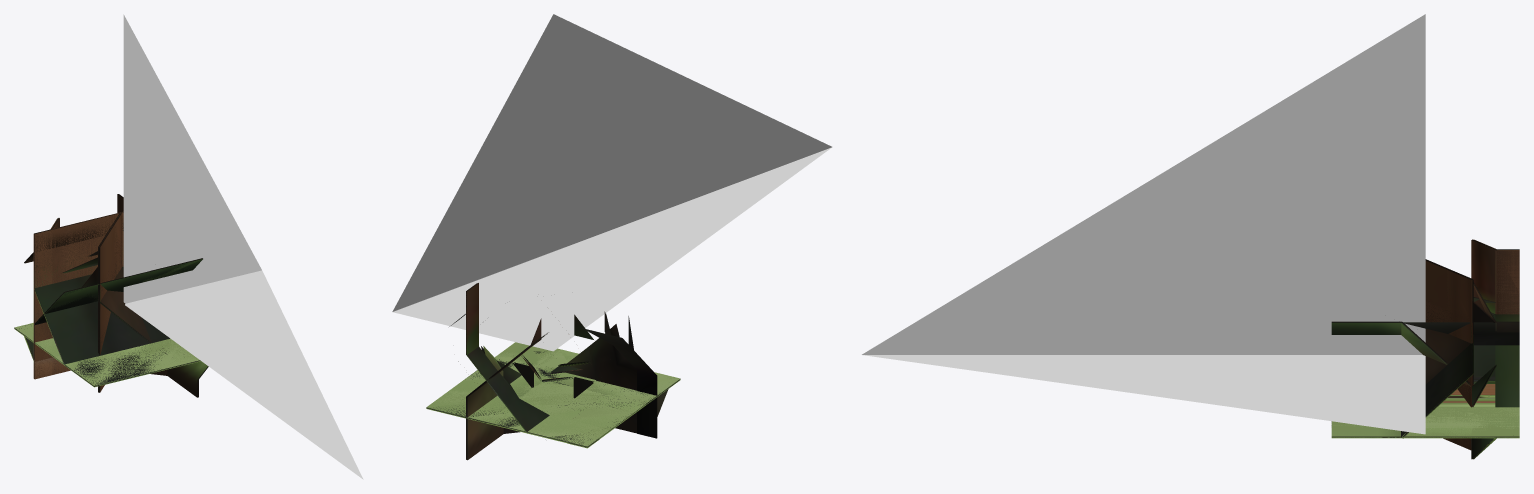
Rendered from tiles.glb.
3 views of the same model, side by side, from view 1: azimuth 30°, elevation 25°; view 2: azimuth 150°, elevation 25°; view 3: azimuth 270°, elevation 25° (orthographic). The views are drawn at different scales.
Parts seen in each view (by area): view 1: mb_frame, edge_inner_b4h2_30, slab_b2h2_outdoor_27, slab_b2h2_outdoor_30, edge_b1h1_outdoor_14, edge_b0h2_12, edge_inner_b2h4_6, edge_inner_b3h3_2, slab_b4h0_17, corner_inner_b4h3_4, slab_b4h0_7, slab_b4h0_5 (+6 smaller); view 2: mb_frame, spike_inner_b3h3, slab_b4h0_9, slab_b4h0_7, twist_left_b1h3, slab_b4h0_10, twist_left_b2h2, twist_left_b3h1, slab_b4h0_6, slab_b4h0_5, ell_b2h1_b_outdoor, slab_b4h0_outdoor_29 (+4 smaller); view 3: mb_frame, edge_inner_b3h3_2, ell_b2h1_a_3, edge_inner_b3h3_4, edge_b1h1_outdoor_13, ell_inner_b4h1_15, edge_inner_b4h2_30, corner_inner_b4h3_4, tetra_b3h1_outdoor, ell_inner_b1h4_4, edge_b1h1_outdoor_15, slab_b4h0_outdoor_25 (+5 smaller).
Part boxes in pixels (bbox=[...]): mb_frame: bbox=[123, 14, 363, 479]; edge_inner_b4h2_30: bbox=[35, 266, 169, 364]; slab_b2h2_outdoor_27: bbox=[34, 213, 123, 376]; slab_b2h2_outdoor_30: bbox=[35, 214, 123, 373]; edge_b1h1_outdoor_14: bbox=[34, 230, 52, 378]; edge_b0h2_12: bbox=[26, 213, 123, 262]; edge_inner_b2h4_6: bbox=[39, 259, 202, 320]; edge_inner_b3h3_2: bbox=[100, 214, 121, 388]; slab_b4h0_17: bbox=[19, 324, 167, 382]; corner_inner_b4h3_4: bbox=[100, 216, 151, 342]; slab_b4h0_7: bbox=[33, 340, 194, 385]; slab_b4h0_5: bbox=[16, 324, 190, 371]; mb_frame: bbox=[392, 14, 832, 351]; spike_inner_b3h3: bbox=[466, 311, 657, 459]; slab_b4h0_9: bbox=[469, 355, 661, 446]; slab_b4h0_7: bbox=[434, 352, 654, 439]; twist_left_b1h3: bbox=[583, 312, 656, 438]; slab_b4h0_10: bbox=[433, 349, 679, 445]; twist_left_b2h2: bbox=[467, 342, 536, 459]; twist_left_b3h1: bbox=[467, 285, 555, 439]; slab_b4h0_6: bbox=[441, 372, 667, 443]; slab_b4h0_5: bbox=[432, 375, 678, 445]; ell_b2h1_b_outdoor: bbox=[467, 283, 527, 433]; slab_b4h0_outdoor_29: bbox=[470, 374, 678, 436]; mb_frame: bbox=[862, 14, 1425, 434]; edge_inner_b3h3_2: bbox=[1425, 261, 1471, 450]; ell_b2h1_a_3: bbox=[1481, 314, 1519, 448]; edge_inner_b3h3_4: bbox=[1425, 270, 1471, 449]; edge_b1h1_outdoor_13: bbox=[1496, 250, 1519, 314]; ell_inner_b4h1_15: bbox=[1438, 314, 1495, 406]; edge_inner_b4h2_30: bbox=[1401, 343, 1471, 436]; corner_inner_b4h3_4: bbox=[1402, 279, 1470, 435]; tetra_b3h1_outdoor: bbox=[1471, 240, 1515, 438]; ell_inner_b1h4_4: bbox=[1403, 323, 1519, 345]; edge_b1h1_outdoor_15: bbox=[1479, 243, 1519, 314]; slab_b4h0_outdoor_25: bbox=[1425, 407, 1519, 424].
Size of the model in its own units: 1.5 by 2.5 by 3.5.
Materials: 1 (1 with a texture image).
